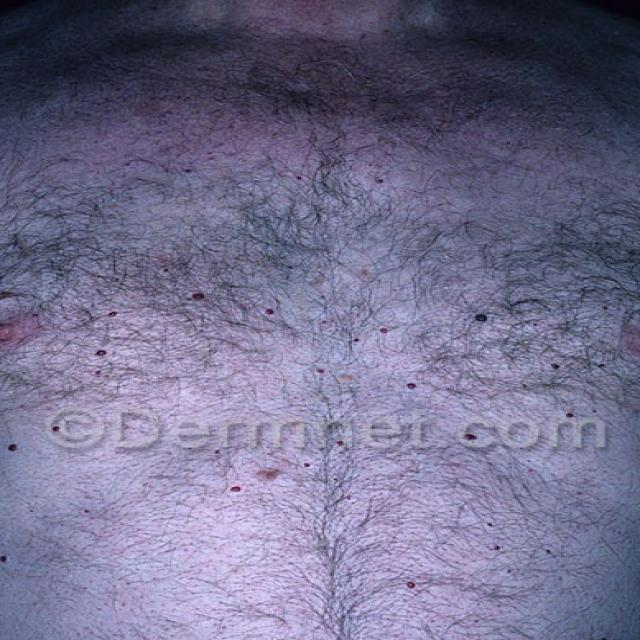Vascular Tumors: (0, 382, 74, 484), (436, 282, 551, 337), (430, 417, 532, 479), (150, 270, 252, 325), (212, 450, 311, 505), (403, 370, 426, 401)
